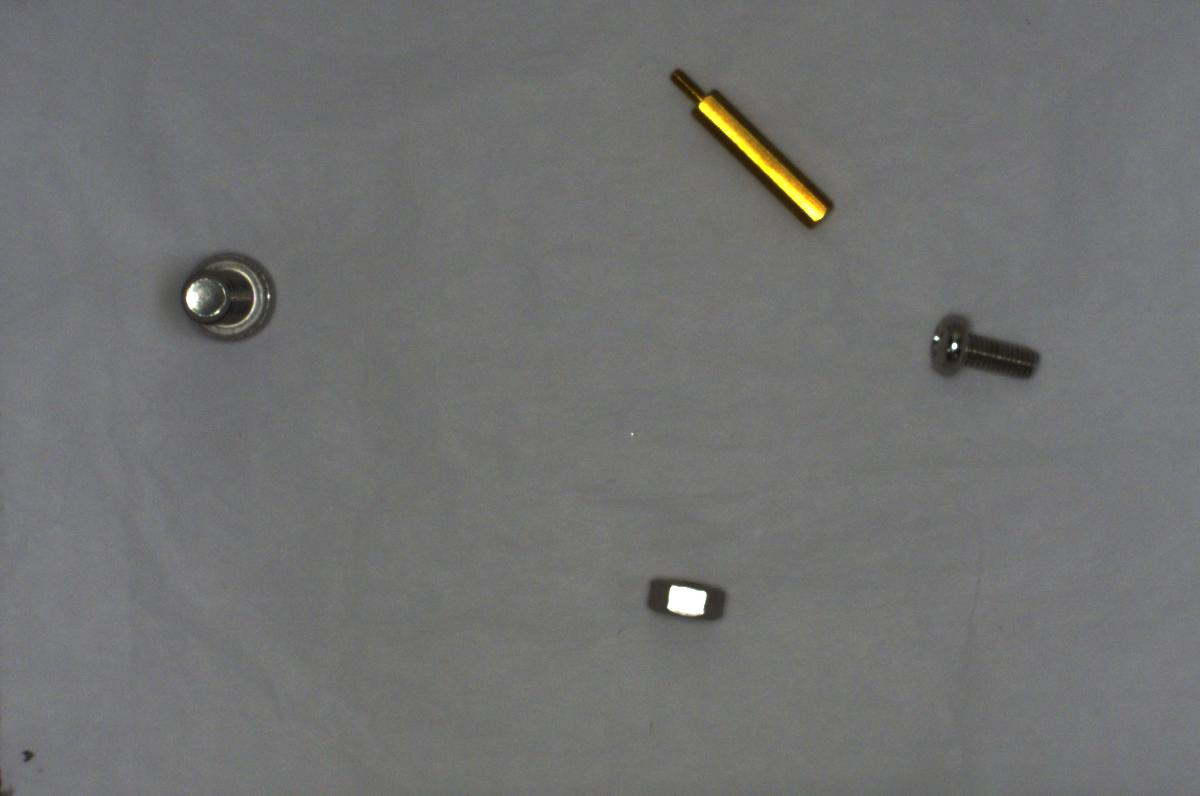Hexagon nut: (634, 565, 738, 633)
Hexagon pillar: (660, 62, 837, 229)
Hexagon screw: (171, 247, 284, 346)
Round head screw: (906, 312, 1058, 387)
